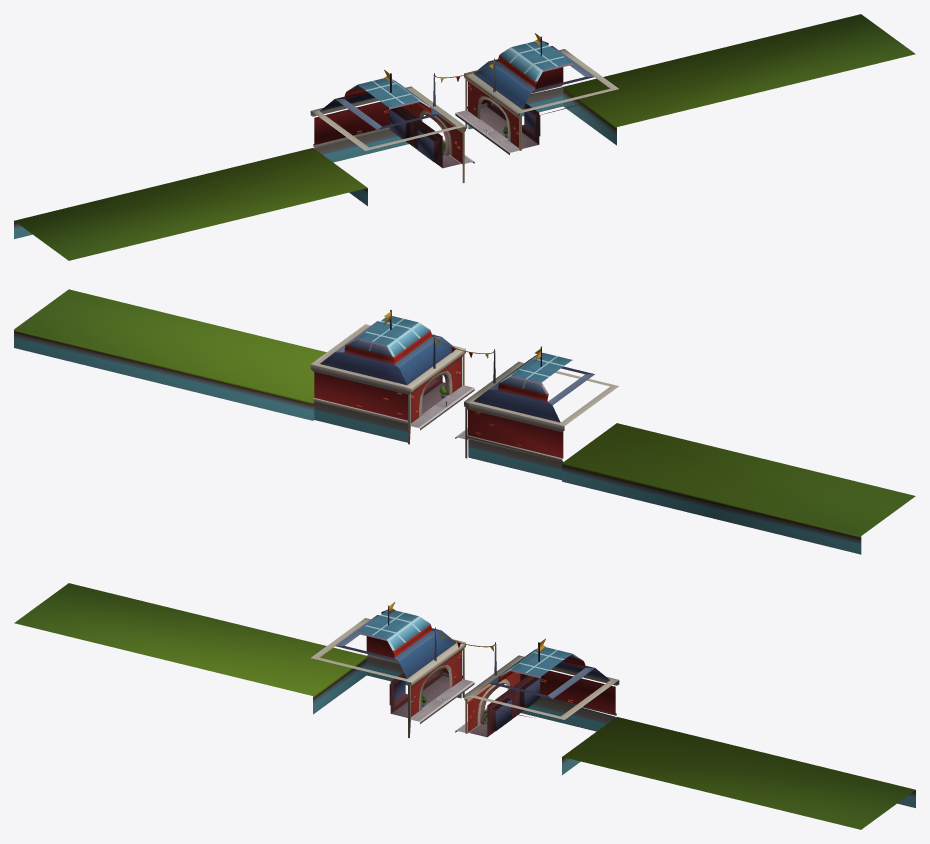
Rendered from Tom1_SideArchSet01_10.fbx.
3 views of the same model, one above another, from view 1: azimuth 30°, elevation 25°; view 2: azimuth 150°, elevation 25°; view 3: azimuth 330°, elevation 25° (orthographic).
Parts seen in each view (by area): view 1: Tom1_SideArchSet01_10; view 2: Tom1_SideArchSet01_10; view 3: Tom1_SideArchSet01_10.
Part boxes in pixels (left/top/right/bottom): Tom1_SideArchSet01_10: left=14, top=14, right=915, bottom=260; Tom1_SideArchSet01_10: left=14, top=289, right=915, bottom=554; Tom1_SideArchSet01_10: left=14, top=583, right=915, bottom=829.
Size of the model in its own units: 8921 by 1024 by 1000.
